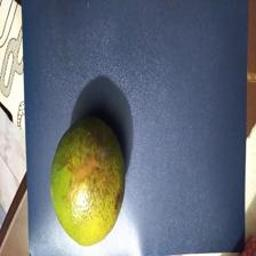Orange Semirotten: (35, 111, 132, 252)
